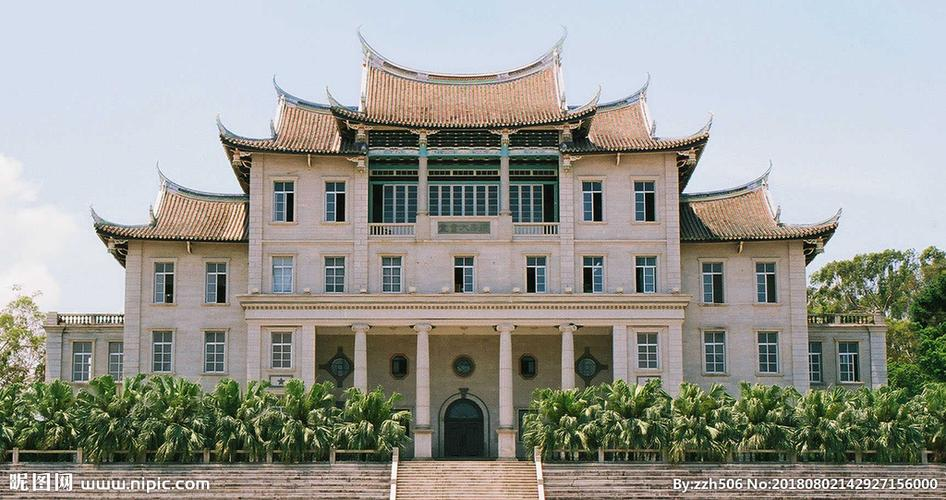buildings: (102, 81, 859, 390)
